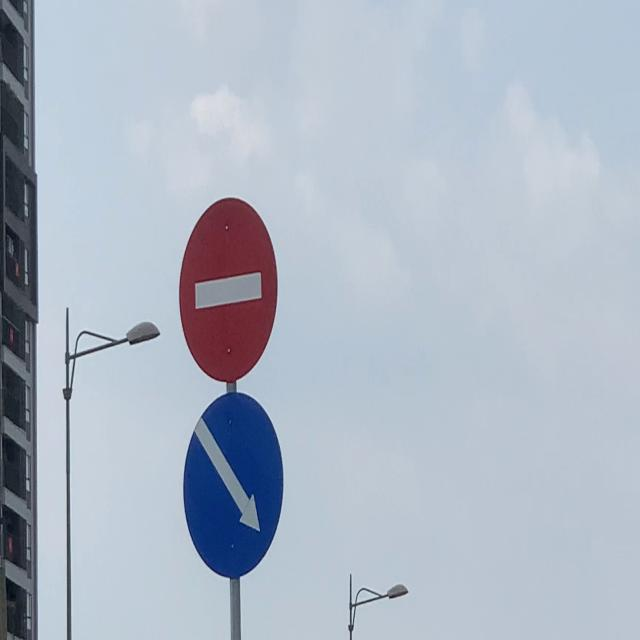Cam nguoc chieu: (178, 196, 278, 384)
Hieu lenh: (182, 390, 284, 580)
